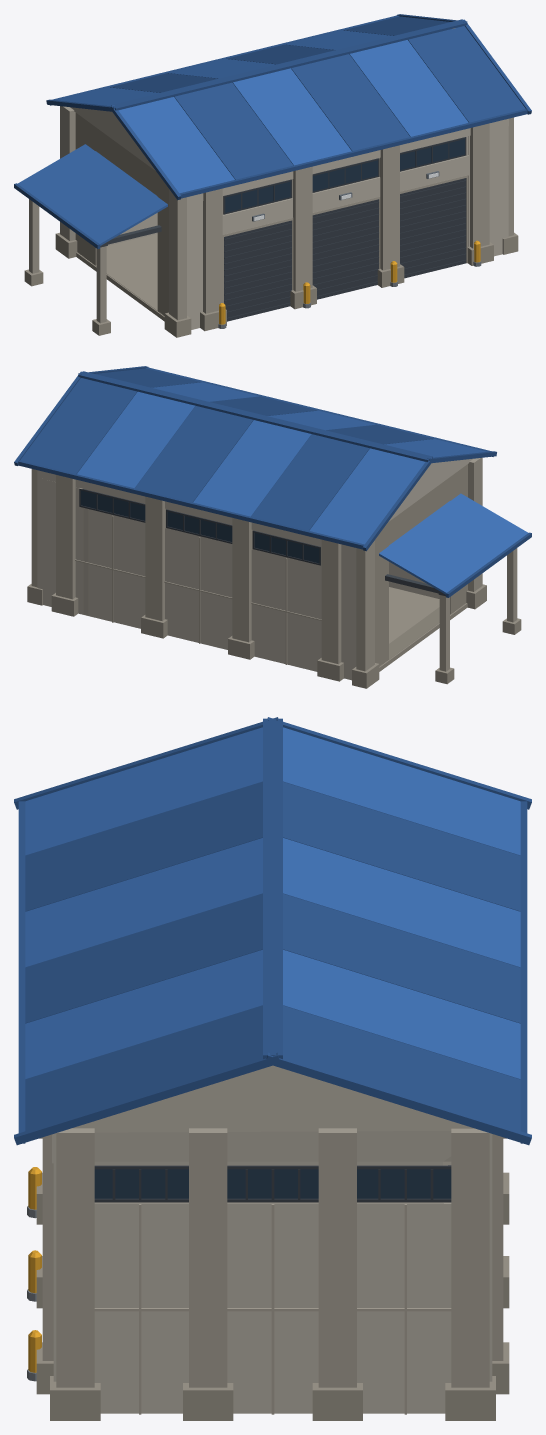
Rendered from blue_warehouse.fbx.
3 views of the same model, one above another, from view 1: azimuth 30°, elevation 25°; view 2: azimuth 150°, elevation 25°; view 3: azimuth 270°, elevation 25° (orthographic). The views are drawn at different scales.
Parts seen in each view (by area): view 1: BlueWarehouse_LowPoly; view 2: BlueWarehouse_LowPoly; view 3: BlueWarehouse_LowPoly.
Boxes of the visible parts, x1,y1,x2,y2 form: BlueWarehouse_LowPoly: (14,14,531,337); BlueWarehouse_LowPoly: (14,366,531,688); BlueWarehouse_LowPoly: (14,717,531,1420).
Bounding box in the file's own units: 1510 × 660 × 839.
